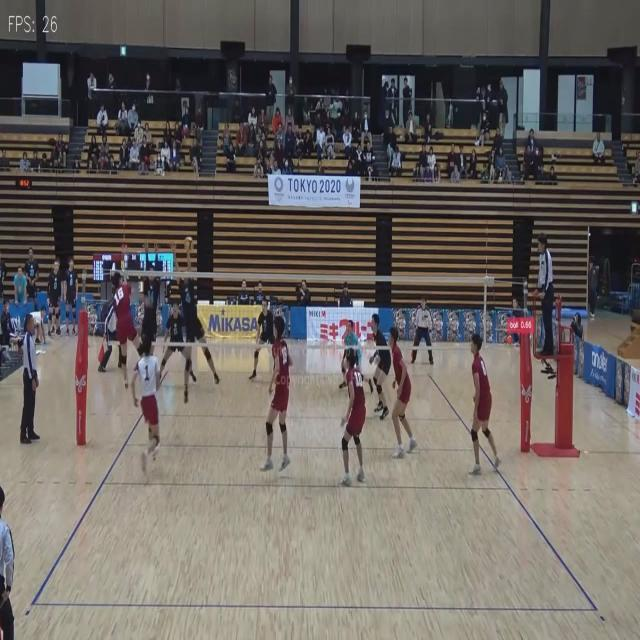volleyball: (183, 238, 194, 252)
